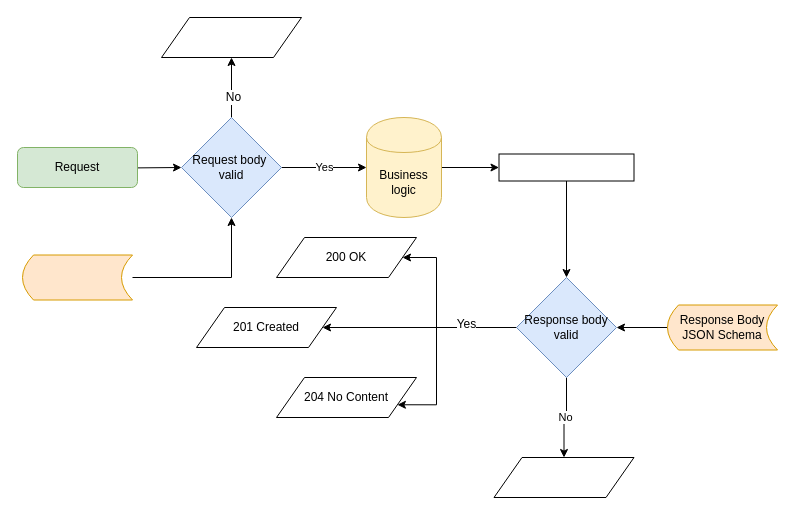
Image size: 795x515. Some labels were removed from this diagram. The box of each missing label's shape, as (x1, y1, x2, y2) in pixels:
400 Bad Request: (160, 16, 302, 58)
500 Server Error: (493, 456, 634, 498)
Request Body JSON Schema: (22, 254, 132, 300)
Response (JSON): (498, 153, 634, 181)
